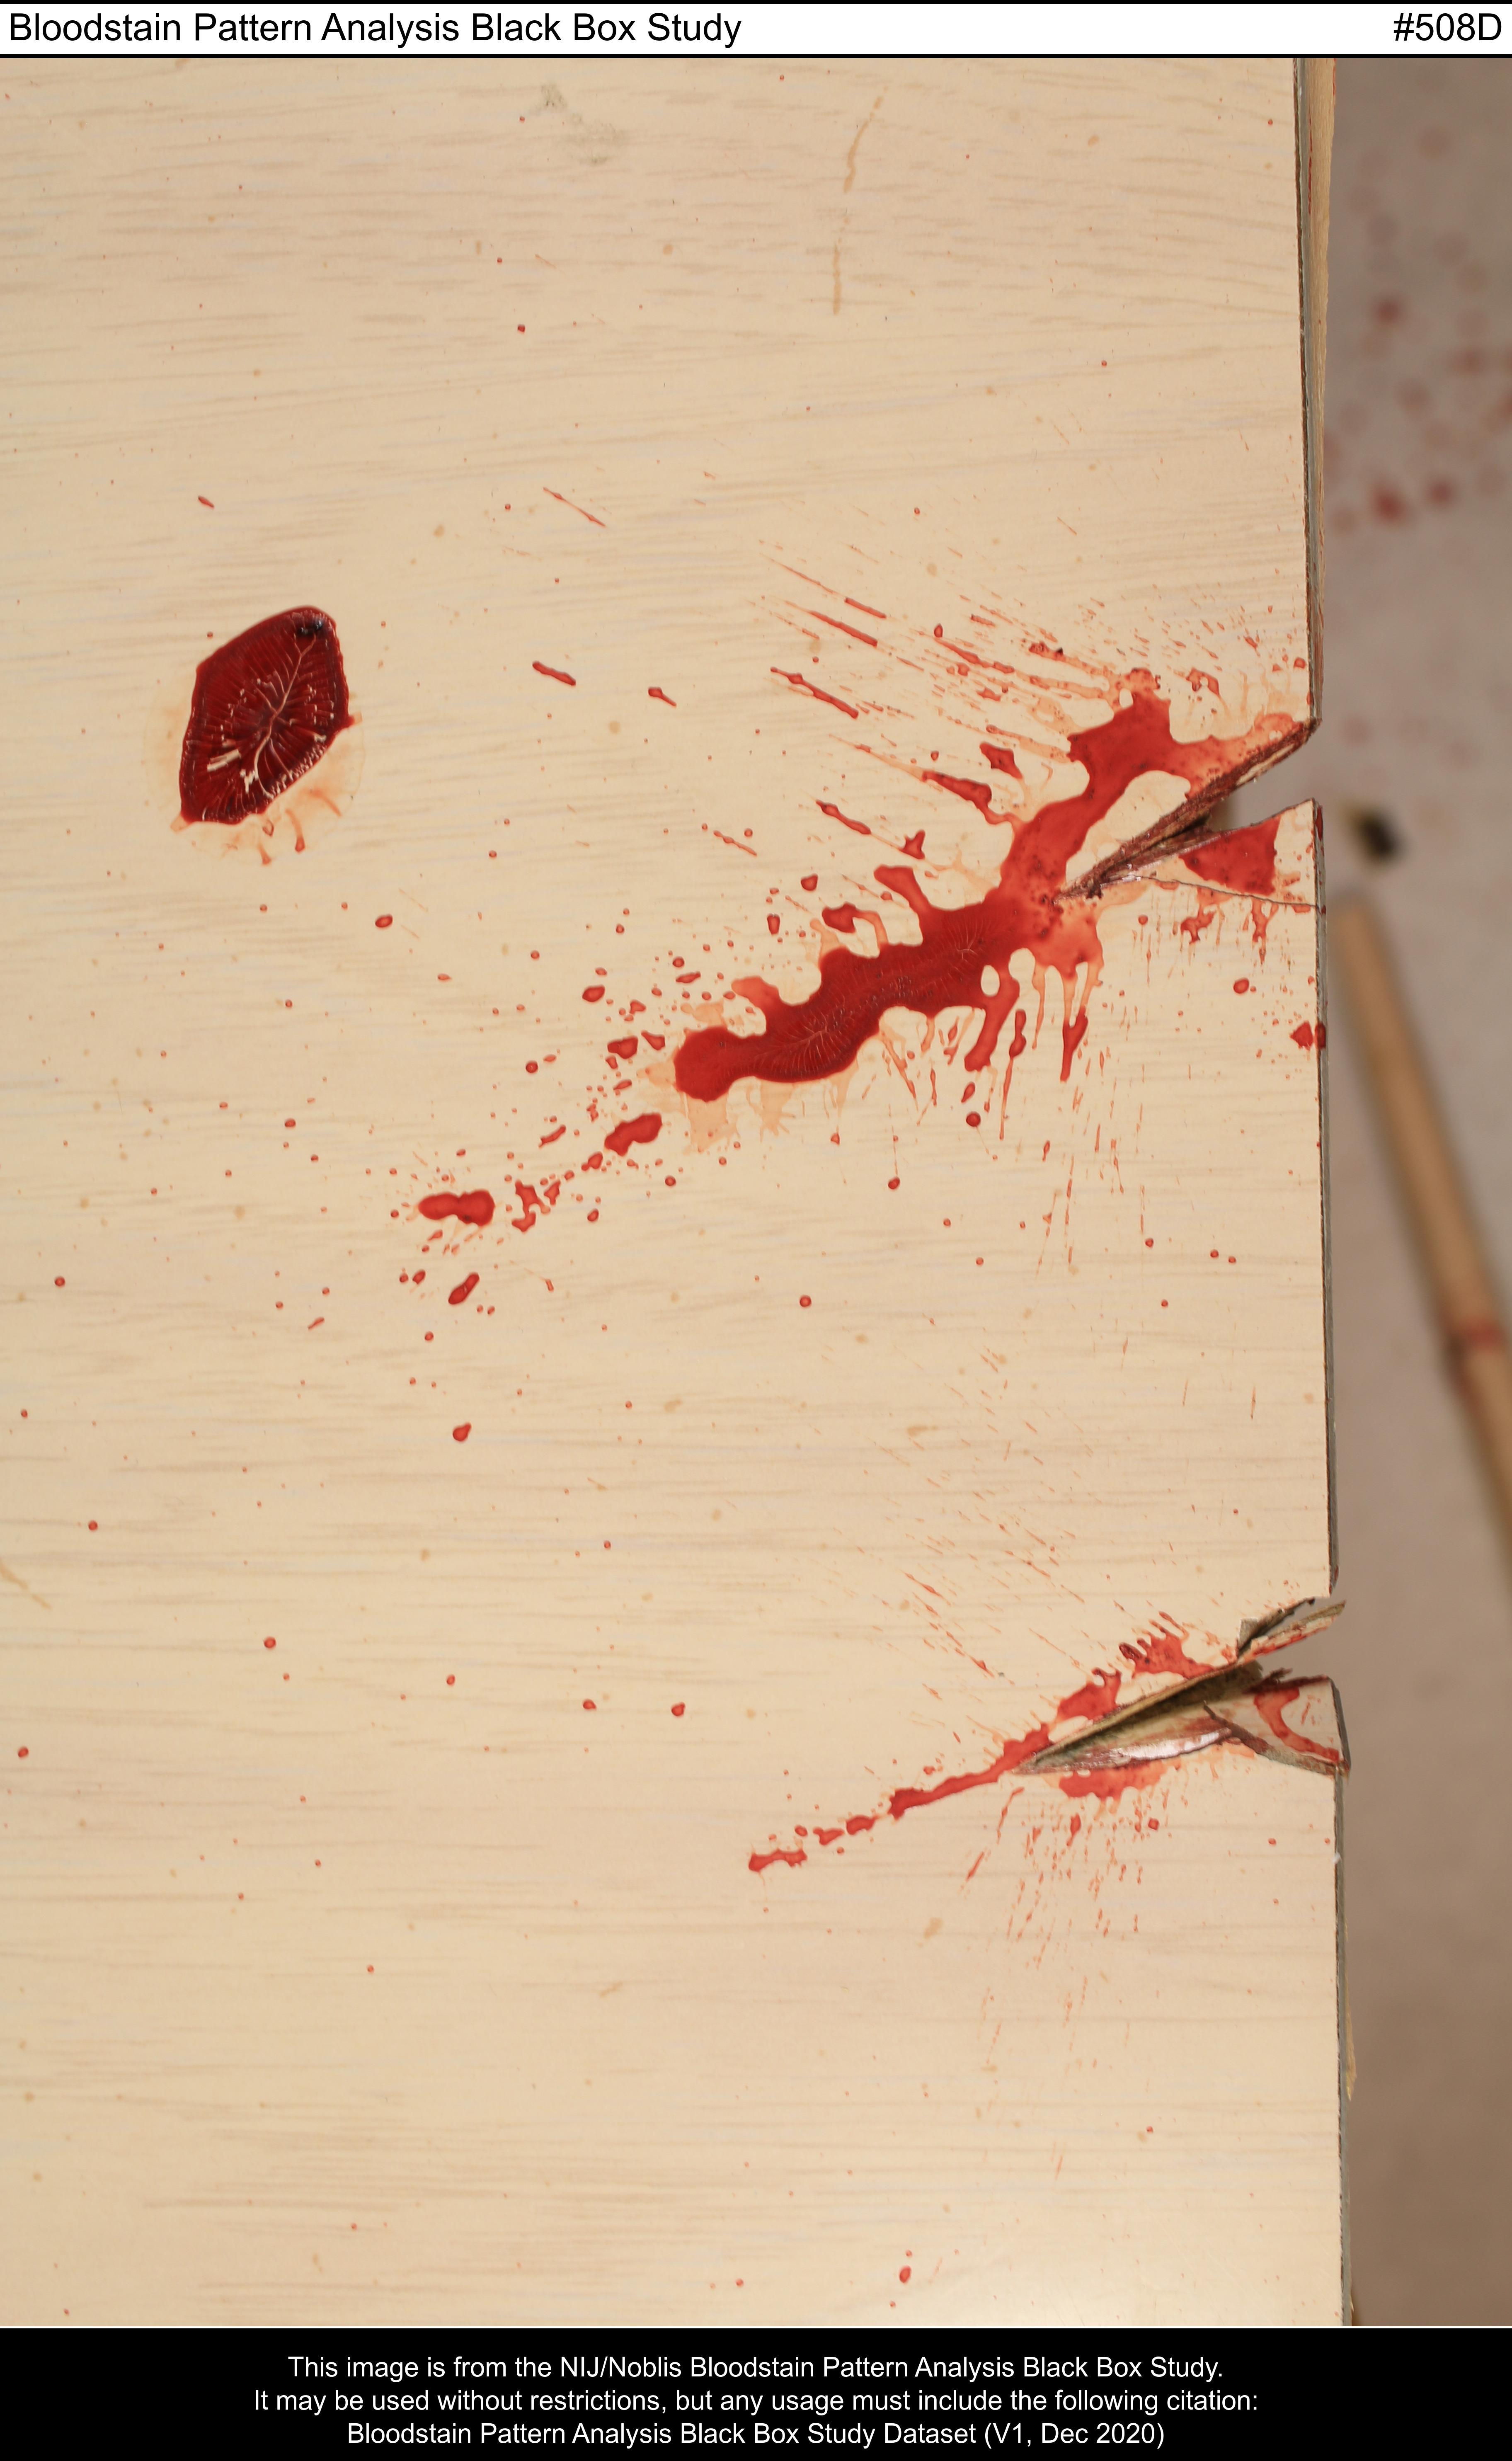Impact: (397, 427, 1319, 1380), (49, 1431, 1352, 1990)
Passive: (120, 540, 373, 895)
